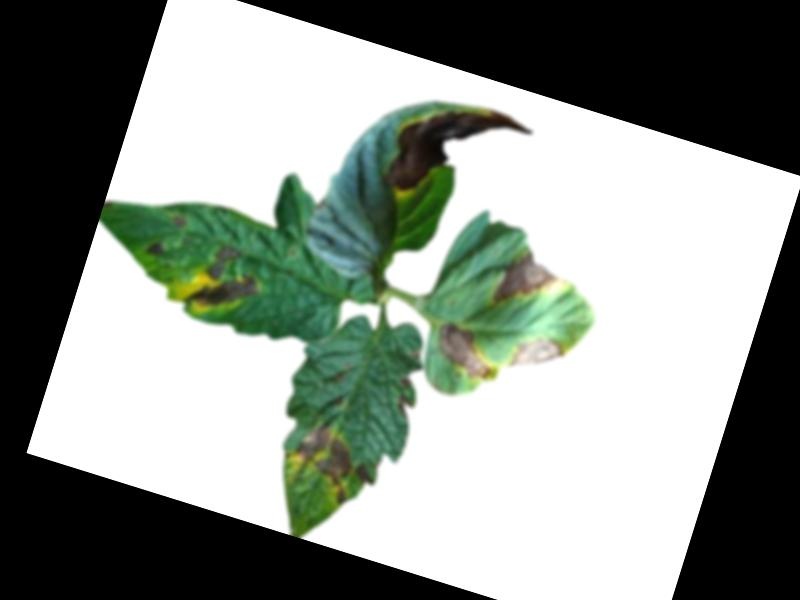Early_blight: (381, 84, 535, 223), (283, 416, 368, 506), (182, 237, 267, 322), (493, 244, 569, 318), (430, 318, 503, 384), (508, 328, 569, 382), (391, 373, 420, 418), (352, 460, 378, 488), (146, 238, 168, 259), (170, 210, 190, 228)
